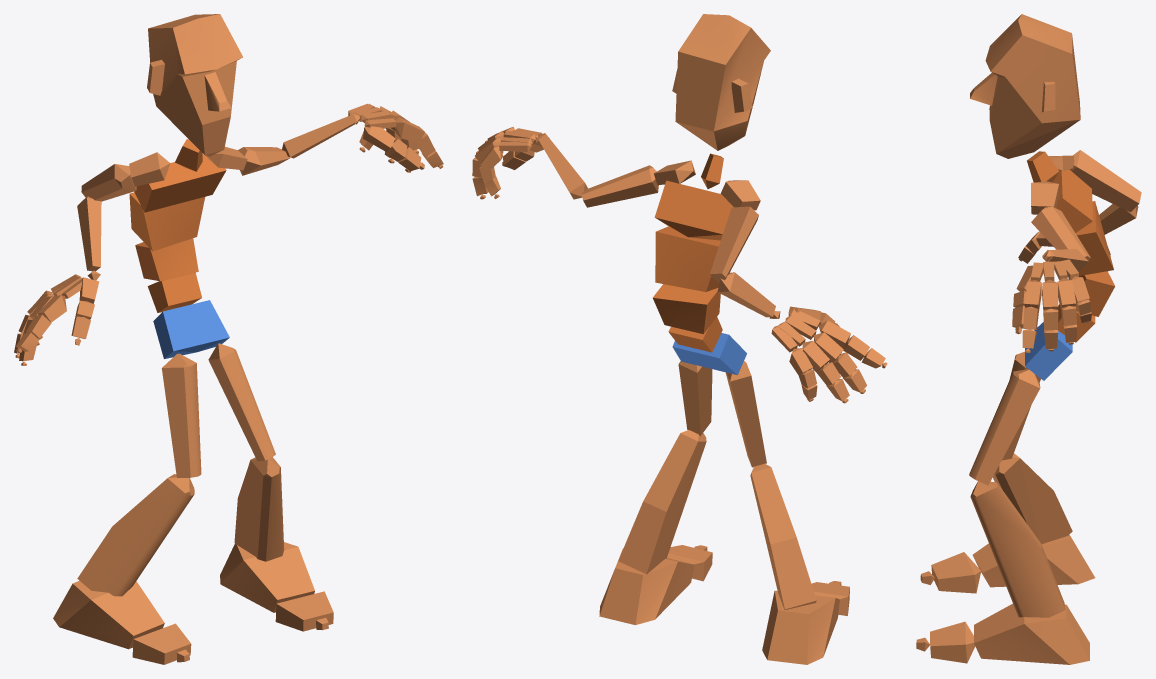
Rendered from personaje326.obj.
The picture shows the model from 3 angles, left to right: view 1: azimuth 30°, elevation 25°; view 2: azimuth 150°, elevation 25°; view 3: azimuth 270°, elevation 25°; orthographic projection.
Parts seen in each view (by area): view 1: BOPED_Head, BOPED_R_leg, BOPED_R_foot, BOPED_L_leg, BOPED_R_foot01, BOPED_R_legup, BOPED_L_legup, Bone01, Bone04, Bone05, Bone03, BOPED_R_foot_toe01 (+8 smaller); view 2: BOPED_Head, BOPED_L_leg, BOPED_R_leg, BOPED_R_foot01, BOPED_R_foot, Bone04, Bone05, Bone03, BOPED_R_legup, BOPED_L_legup, BOPED_R_arm_upper, BOPED_L_arm_upper (+8 smaller); view 3: BOPED_Head, BOPED_L_leg, BOPED_R_foot01, BOPED_R_leg, BOPED_L_legup, BOPED_R_foot, BOPED_R_arm_upper, Bone05, BOPED_R_foot_toe01, BOPED_R_foot_toe04, Bone04, BOPED_L_arm_upper (+11 smaller).
Boxes of the visible parts, x1,y1,x2,y2 form: BOPED_Head: (147,14,242,156); BOPED_R_leg: (77,474,194,596); BOPED_R_foot: (53,581,164,649); BOPED_L_leg: (234,457,284,561); BOPED_R_foot01: (220,542,314,612); BOPED_R_legup: (161,353,201,477); BOPED_L_legup: (208,343,275,461); Bone01: (153,300,229,358); Bone04: (129,192,205,251); Bone05: (134,154,226,212); Bone03: (135,238,198,281); BOPED_R_foot_toe01: (132,623,191,664); BOPED_Head: (672,14,770,150); BOPED_L_leg: (618,430,706,574); BOPED_R_leg: (750,463,816,609); BOPED_R_foot01: (599,548,694,625); BOPED_R_foot: (762,590,839,664); Bone04: (655,226,720,291); Bone05: (654,180,733,240); Bone03: (652,284,720,334); BOPED_R_legup: (725,361,766,467); BOPED_L_legup: (678,361,712,435); BOPED_R_arm_upper: (710,206,758,282); BOPED_L_arm_upper: (582,165,658,207); BOPED_Head: (970,14,1080,158); BOPED_L_leg: (970,481,1065,617); BOPED_R_foot01: (974,603,1089,664); BOPED_R_leg: (993,453,1072,543); BOPED_L_legup: (969,369,1040,485); BOPED_R_foot: (972,534,1095,587); BOPED_R_arm_upper: (1069,150,1141,212); Bone05: (1053,169,1092,232); BOPED_R_foot_toe01: (931,552,981,593); BOPED_R_foot_toe04: (930,621,975,663); Bone04: (1075,201,1113,275); BOPED_L_arm_upper: (1031,206,1090,260).
Bounding box in the file's own units: 137 × 186 × 63.98.
